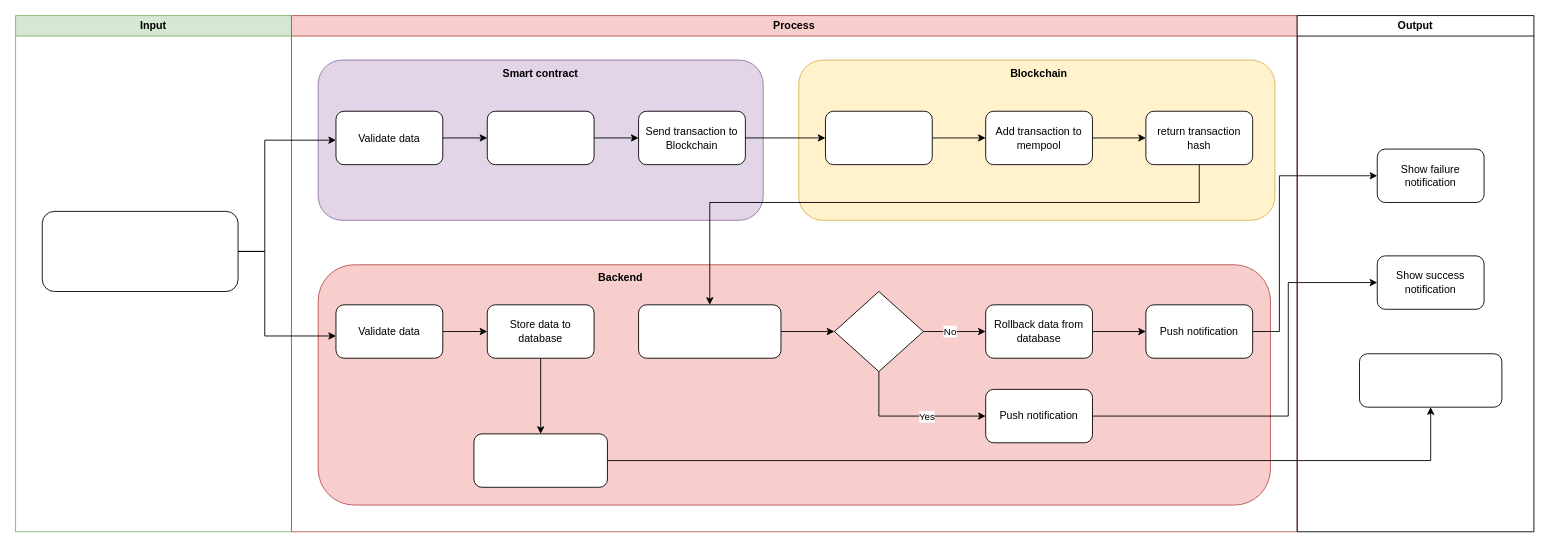
The diagram is 1549 pixels wide and 547 high, and some of its shapes have lost their labels. The shapes that lost their labels are listed below. From the top down, each one's centre as x and y in pixels, then its label:
the point at 540,137: Create transaction
the point at 878,137: Recive transaction
the point at 139,250: SemesterId StudentId StudentEnrollmentCourseSectionId Score ScoreType
the point at 709,331: listen for transaction status
the point at 878,331: Is success ?
the point at 1430,380: Display temporary data on the interface
the point at 540,460: Return data stored
